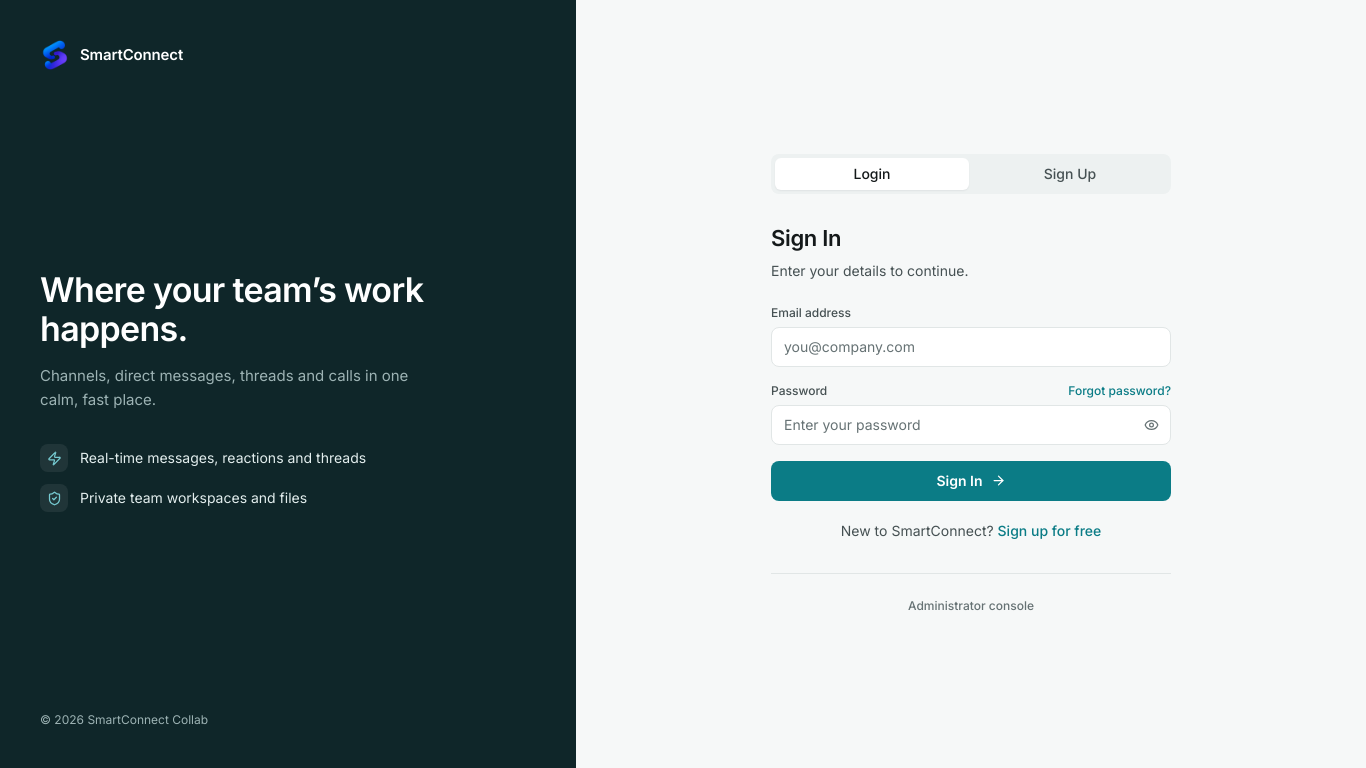
Test: QA — sign-in form › L3: an empty sign-in is explained inline and nothing is sent
The width and height of the screenshot is (1366, 768).
Click the button "Sign In": (971, 480) x1=771 y1=460 x2=1171 y2=500
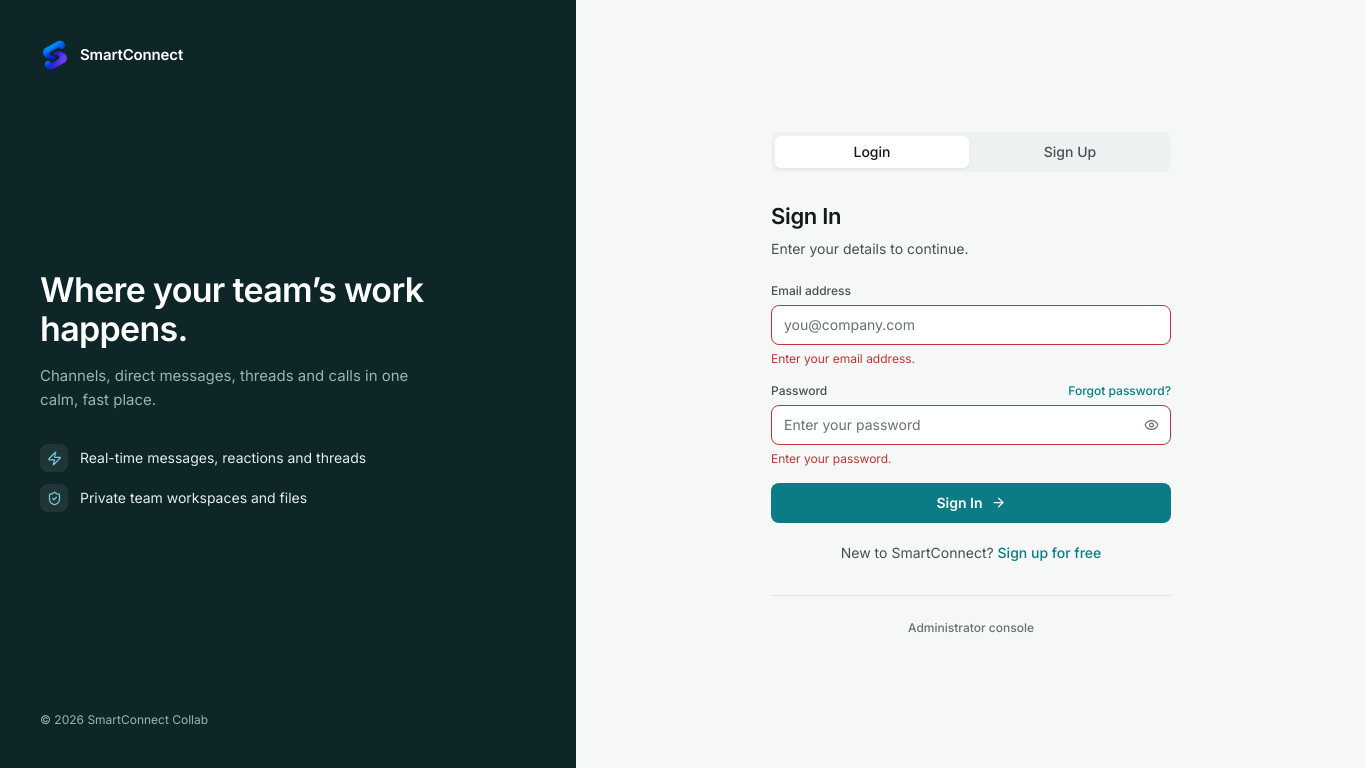
expect the text "Enter your email address." is shown: met, box x1=771 y1=350 x2=915 y2=366
expect the text "Enter your password." is shown: met, box x1=771 y1=450 x2=892 y2=466
